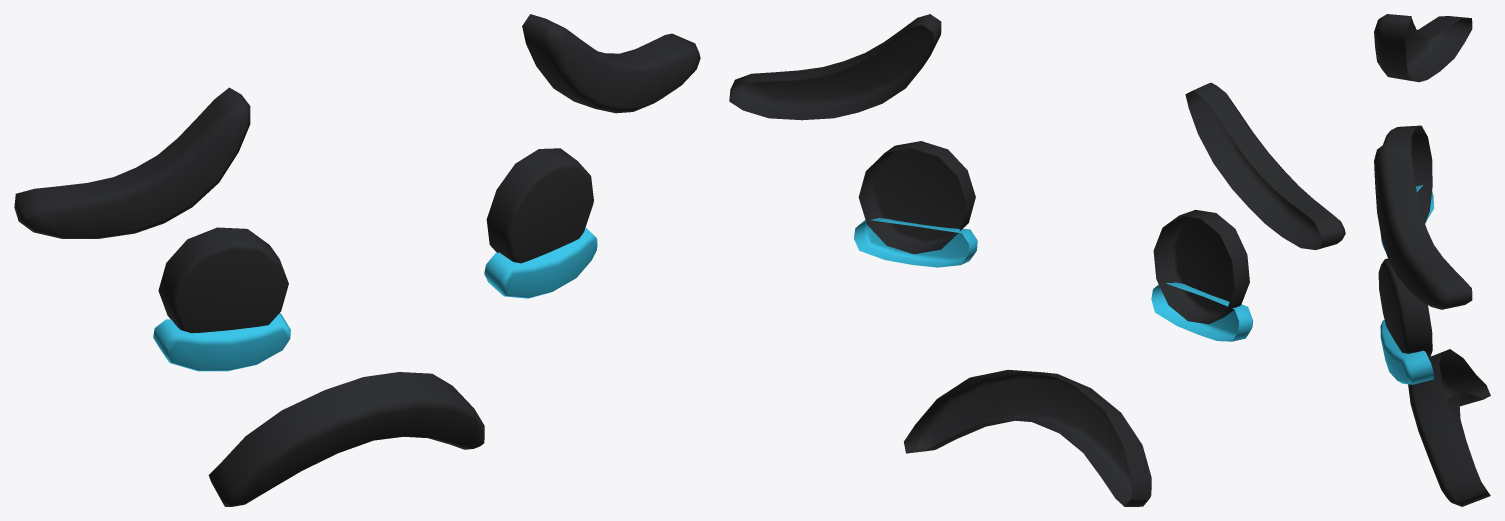
File: Male_Emotion_Cry_01.glb
3 renders of one model, left to right at view 1: azimuth 30°, elevation 25°; view 2: azimuth 150°, elevation 25°; view 3: azimuth 270°, elevation 25°, orthographic. The views are drawn at different scales.
Parts seen in each view (by area): view 1: Male_Emotion_Cry_01; view 2: Male_Emotion_Cry_01; view 3: Male_Emotion_Cry_01.
Boxes of the visible parts, x1,y1,x2,y2 form: Male_Emotion_Cry_01: (14, 14, 700, 506); Male_Emotion_Cry_01: (729, 14, 1345, 506); Male_Emotion_Cry_01: (1374, 14, 1490, 506).
Size of the model in its own units: 0.2727 by 0.172 by 0.0483.
1 material, 1 textured.
